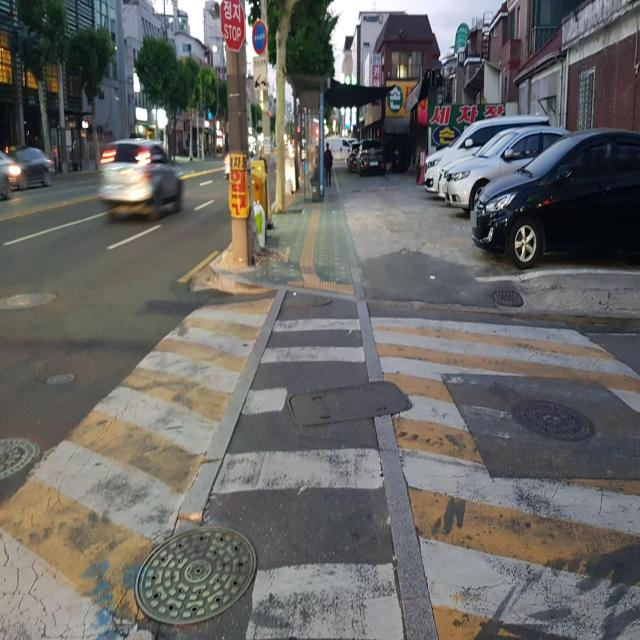횡단보도: (205, 311, 408, 640)
